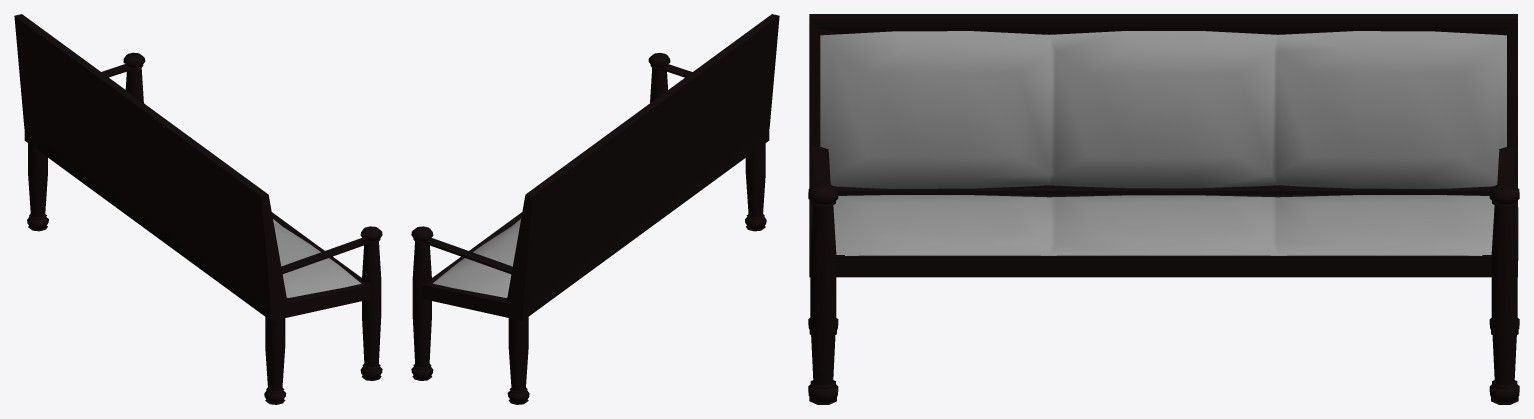
Rendered from LongArmChair.FBX.
3 views of the same model, side by side, from view 1: azimuth 30°, elevation 25°; view 2: azimuth 150°, elevation 25°; view 3: azimuth 270°, elevation 25° (orthographic). The views are drawn at different scales.
Visible parts, largest first — view 1: LongArmChair; view 2: LongArmChair; view 3: LongArmChair.
Boxes of the visible parts, x1,y1,x2,y2 form: LongArmChair: [14, 14, 382, 404]; LongArmChair: [411, 14, 779, 404]; LongArmChair: [808, 14, 1519, 404].
Size of the model in its own units: 14.72 by 24.19 by 50.97.
2 materials, 1 textured.
